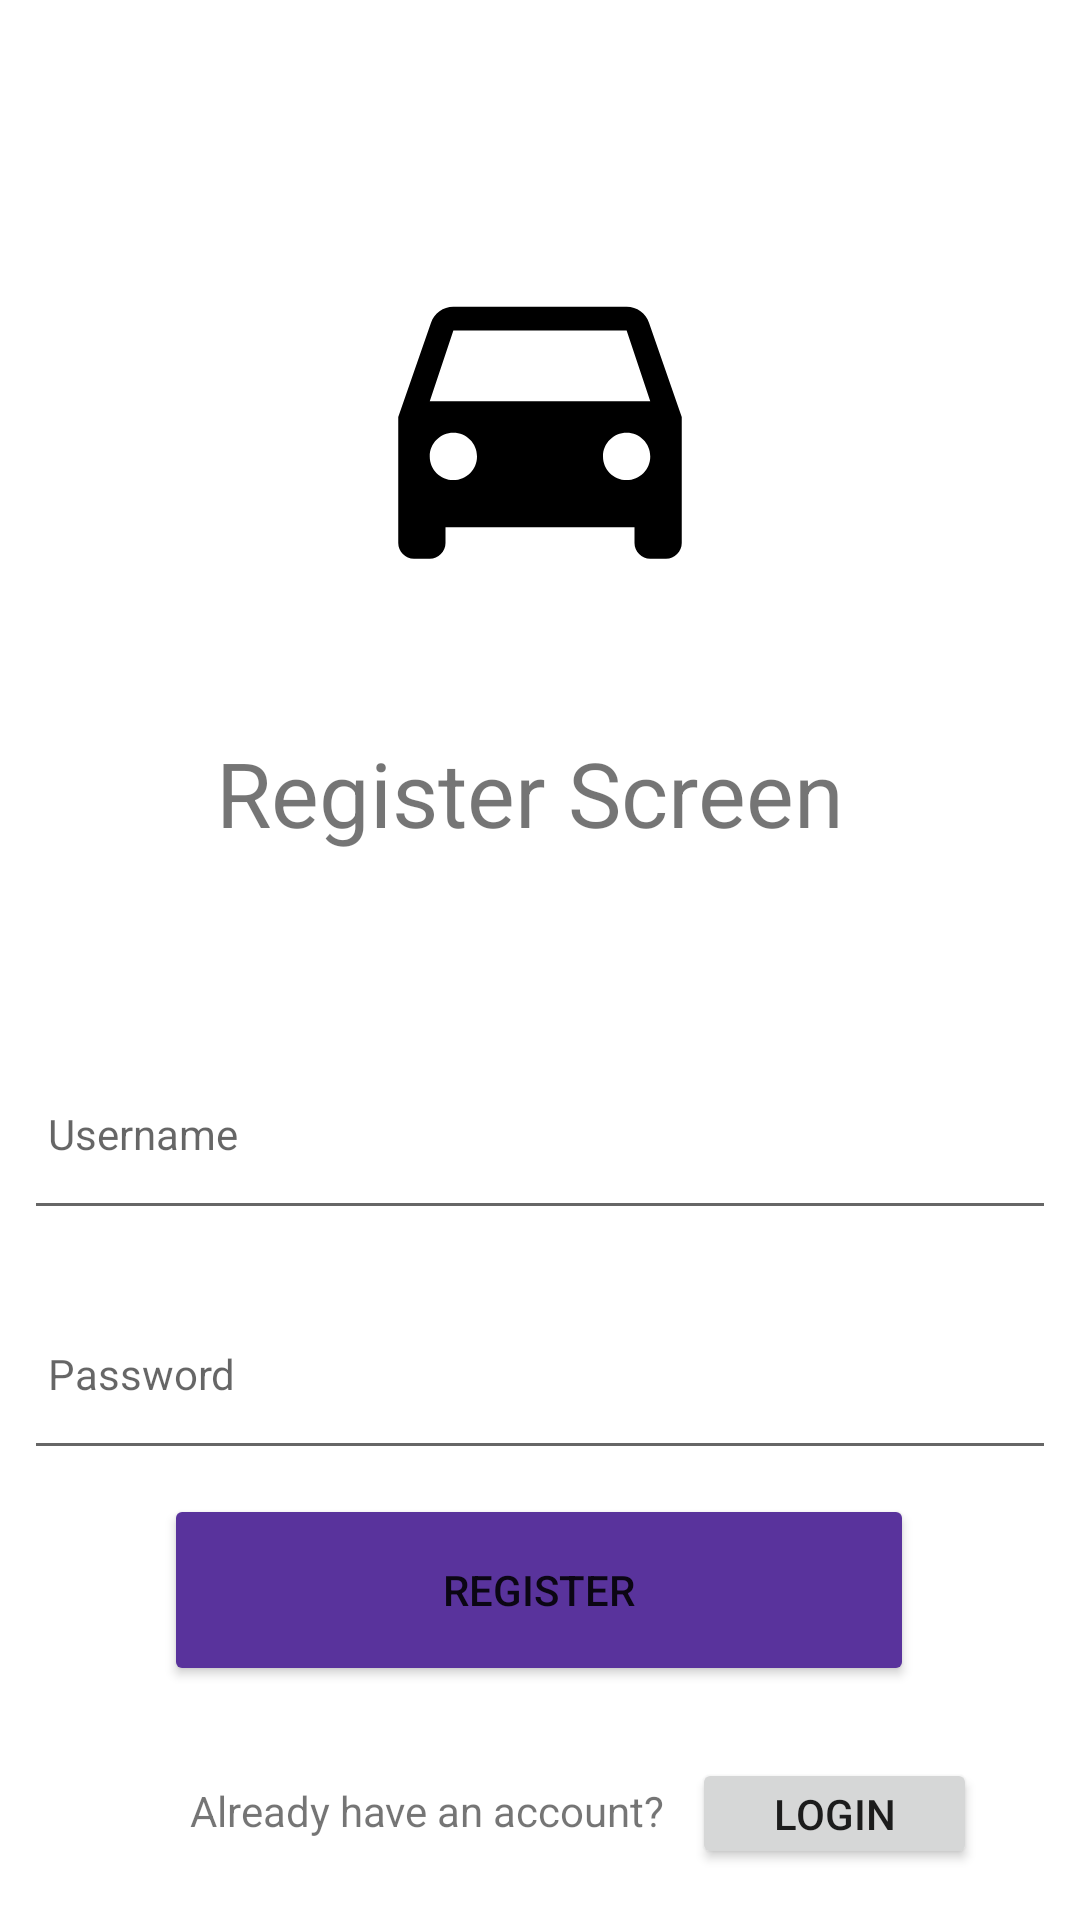

Screen size 1080 × 1920. Icon name, then its center in pixels as point (x, y):
directions car: point (540, 432)
